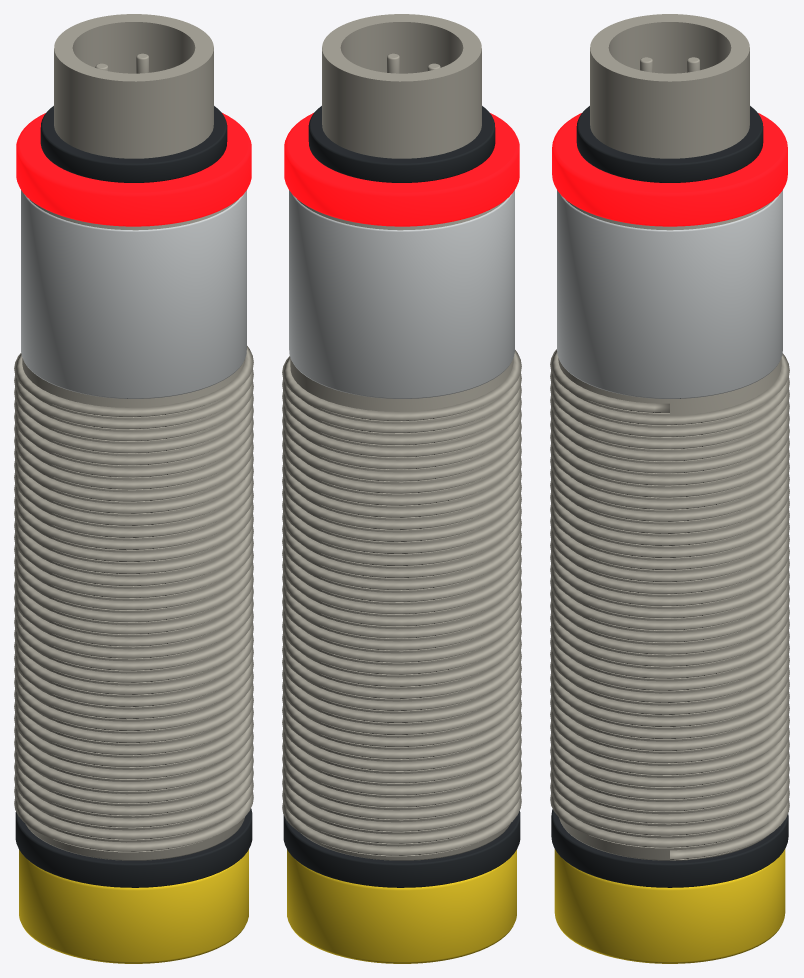
Rendered from sensor_indutivo_M18.glb.
3 views of the same model, side by side, from view 1: azimuth 30°, elevation 25°; view 2: azimuth 150°, elevation 25°; view 3: azimuth 270°, elevation 25° (orthographic).
Visible parts, largest first — view 1: Rosca_M18_Aproximada, Faixa_Etiqueta, Corpo_Metalico, Conexao_Traseira_Metal, Face_Sensora, Luz_Indicadora, Aro_Frontal, Base_Conexao; view 2: Rosca_M18_Aproximada, Faixa_Etiqueta, Corpo_Metalico, Conexao_Traseira_Metal, Face_Sensora, Luz_Indicadora, Aro_Frontal, Base_Conexao; view 3: Rosca_M18_Aproximada, Faixa_Etiqueta, Corpo_Metalico, Conexao_Traseira_Metal, Face_Sensora, Luz_Indicadora, Aro_Frontal, Base_Conexao.
Boxes of the visible parts, x1,y1,x2,y2 form: Rosca_M18_Aproximada: (14, 346, 253, 852); Faixa_Etiqueta: (21, 190, 246, 398); Corpo_Metalico: (22, 199, 245, 860); Conexao_Traseira_Metal: (54, 14, 213, 158); Face_Sensora: (19, 849, 248, 963); Luz_Indicadora: (16, 113, 251, 226); Aro_Frontal: (15, 808, 252, 887); Base_Conexao: (40, 106, 227, 182); Rosca_M18_Aproximada: (282, 350, 521, 856); Faixa_Etiqueta: (289, 190, 514, 398); Corpo_Metalico: (290, 199, 513, 860); Conexao_Traseira_Metal: (322, 14, 481, 158); Face_Sensora: (287, 849, 516, 963); Luz_Indicadora: (284, 113, 519, 226); Aro_Frontal: (283, 811, 520, 887); Base_Conexao: (308, 106, 495, 182); Rosca_M18_Aproximada: (550, 349, 789, 860); Faixa_Etiqueta: (557, 190, 782, 398); Corpo_Metalico: (558, 200, 781, 860); Conexao_Traseira_Metal: (590, 14, 749, 158); Face_Sensora: (554, 849, 785, 963); Luz_Indicadora: (552, 113, 787, 226); Aro_Frontal: (551, 809, 788, 887); Base_Conexao: (576, 106, 763, 182).
Bounding box in the file's own units: 0.018 × 0.072 × 0.018.
